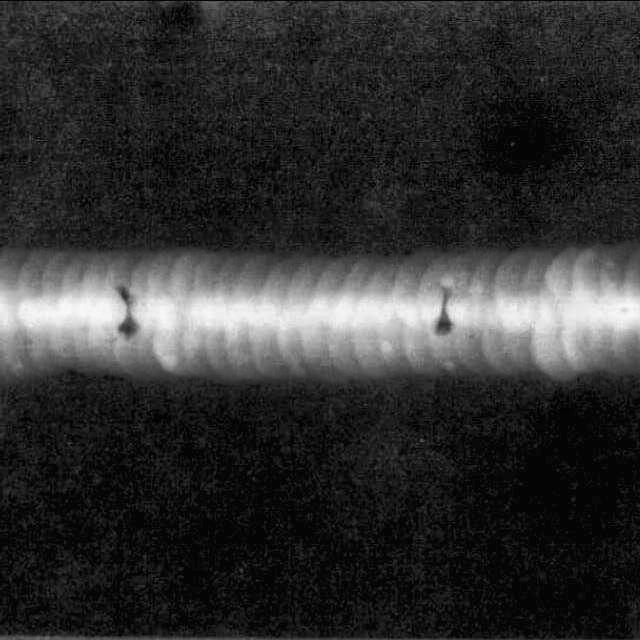Slag: (98, 274, 164, 351), (425, 270, 463, 350)
